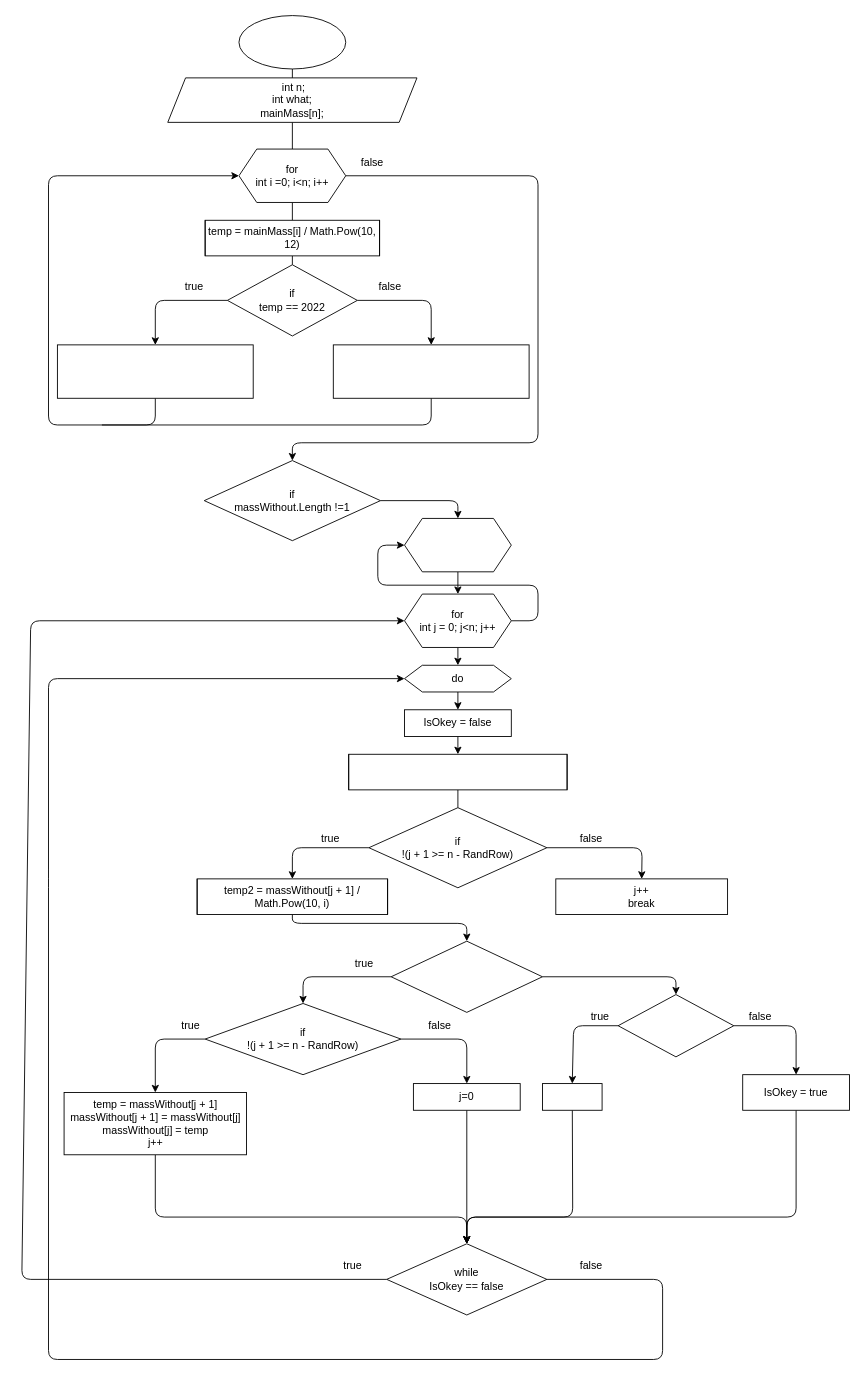
Some shapes in this 865 by 1382 pixel diagram are drawn without their labels. The shapes that lost their labels are listed below. From the top down, each one's centre as x and y in pixels, then its label:
the point at 292,42: Start
the point at 155,371: massWithout[schetchik] = mainMass[i] schetchik++
the point at 430,371: mass2022[schetchik2] = mainMass[i] schetchik2++
the point at 457,545: for int z = 0; z<n; z++
the point at 457,771: temp = massWithout[j] / Math.Pow(10, i))
the point at 466,976: if temp > temp2
the point at 675,1025: if temp == temp2
the point at 572,1096: i--
